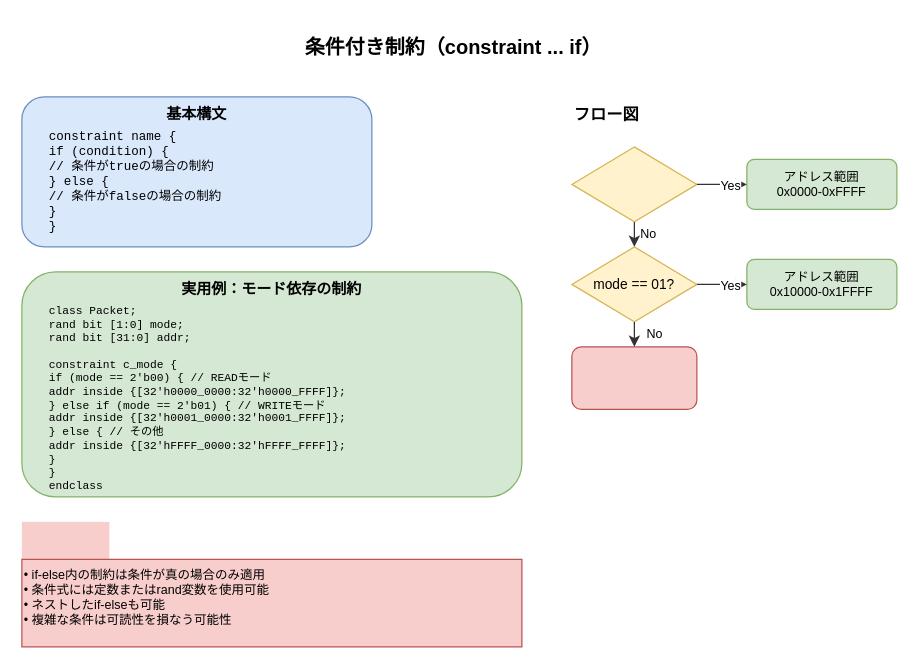
The diagram is 919 pixels wide and 669 high, and some of its shapes have lost their labels. The centre of each missing label's shape, as x and y in pixels:
mode == 00?: pixel 634 184
アドレス範囲 0xFFFF0000- 0xFFFFFFFF: pixel 634 377
注意点: pixel 65 540
